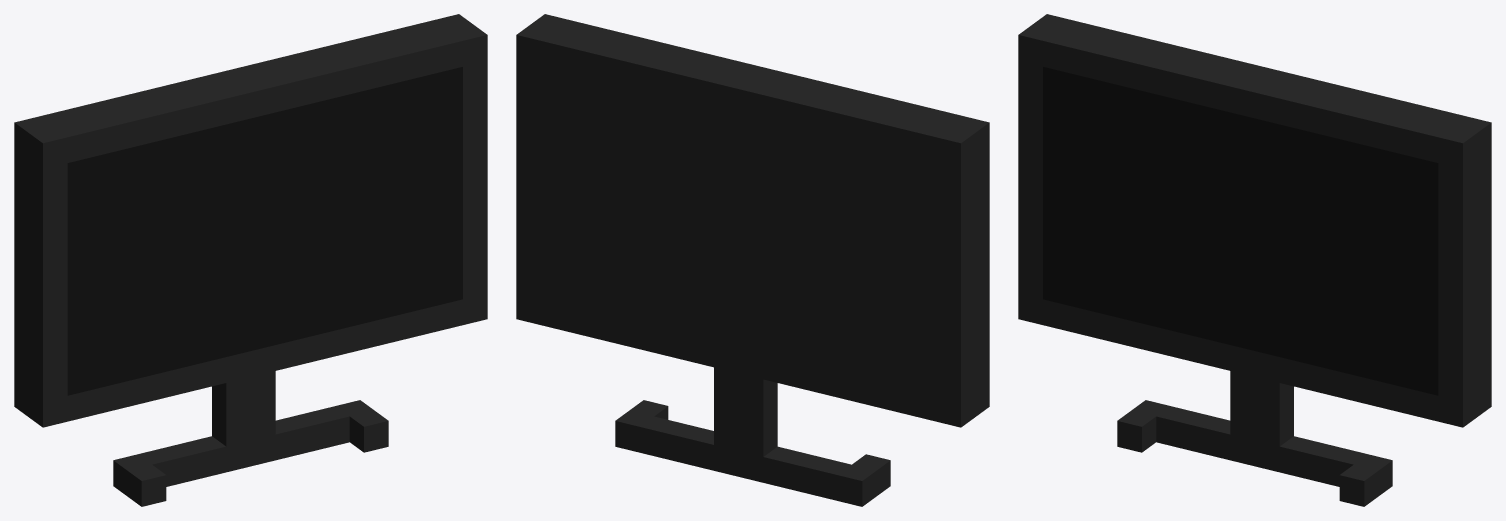
Rendered from computer.obj.
3 renders of one model, left to right at view 1: azimuth 30°, elevation 25°; view 2: azimuth 150°, elevation 25°; view 3: azimuth 330°, elevation 25°, orthographic.
Size of the model in its own units: 1.8 by 1.5 by 0.2.
1 material, 1 textured.
